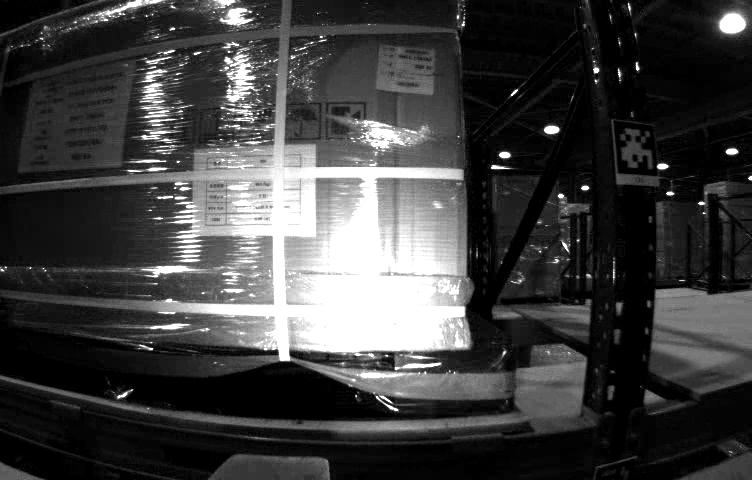True Barcode: (381, 41, 434, 94)
